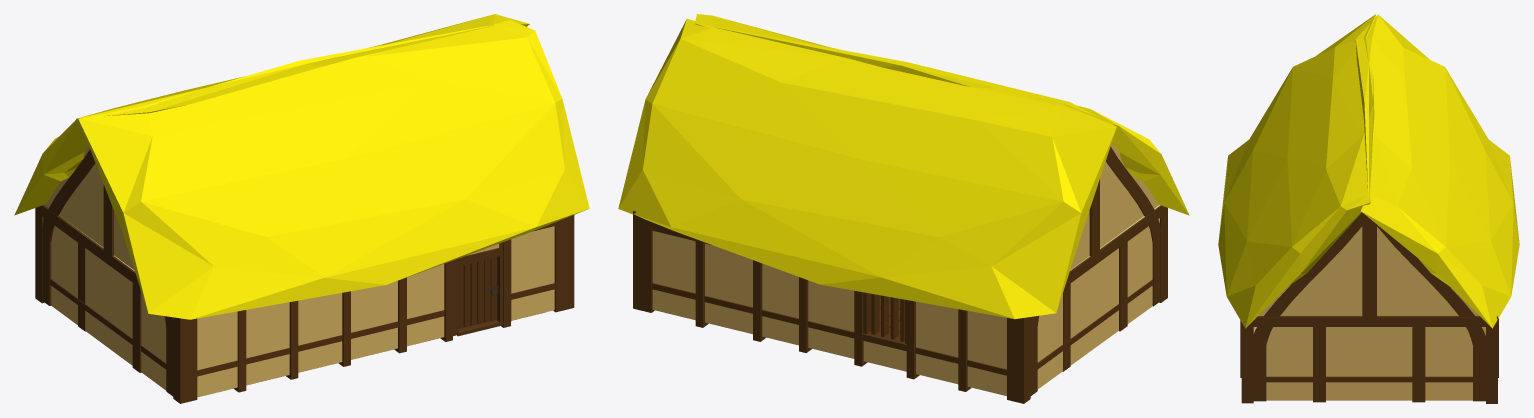
The model's file is casita.fbx.
3 renders of one model, left to right at view 1: azimuth 30°, elevation 25°; view 2: azimuth 150°, elevation 25°; view 3: azimuth 270°, elevation 25°, orthographic. The views are drawn at different scales.
Visible parts, largest first — view 1: Icosphere.001, Cube.026, Cube.020, Icosphere.002, Cube.004, Cube.023, Cube.072, Cube.009, Cube.003, Cube.057, Cube.063, Cube.051 (+8 smaller); view 2: Icosphere.002, Cube.019, Cube.020, Icosphere.001, Cube.004, Cube.009, Cube.045, Cube.003, Cube.049, Cube.050, Cube.047, Cube.044 (+5 smaller); view 3: Icosphere.002, Icosphere.001, Cube.024, Cube.003, Cube.061, Cube.059, Cube.062.
Part boxes in pixels (left/top/right/bottom): Icosphere.001: left=78, top=20, right=589, bottom=319; Cube.026: left=197, top=264, right=444, bottom=397; Cube.020: left=44, top=146, right=166, bottom=390; Icosphere.002: left=14, top=14, right=529, bottom=215; Cube.004: left=35, top=185, right=197, bottom=403; Cube.023: left=511, top=226, right=554, bottom=320; Cube.072: left=459, top=257, right=497, bottom=328; Cube.009: left=42, top=149, right=173, bottom=396; Cube.003: left=553, top=215, right=574, bottom=312; Cube.057: left=197, top=310, right=444, bottom=376; Cube.063: left=132, top=283, right=141, bottom=372; Cube.051: left=234, top=310, right=246, bottom=392; Icosphere.002: left=618, top=19, right=1116, bottom=319; Cube.019: left=652, top=231, right=1006, bottom=395; Cube.020: left=1037, top=143, right=1160, bottom=389; Icosphere.001: left=695, top=14, right=1189, bottom=215; Cube.004: left=1007, top=179, right=1167, bottom=403; Cube.009: left=1030, top=146, right=1160, bottom=395; Cube.045: left=652, top=283, right=1006, bottom=375; Cube.003: left=633, top=211, right=654, bottom=312; Cube.049: left=695, top=239, right=708, bottom=327; Cube.050: left=958, top=309, right=971, bottom=391; Cube.047: left=753, top=260, right=765, bottom=341; Cube.044: left=906, top=300, right=919, bottom=379; Icosphere.002: left=1355, top=14, right=1519, bottom=328; Icosphere.001: left=1218, top=14, right=1375, bottom=328; Cube.024: left=1259, top=226, right=1485, bottom=400; Cube.003: left=1241, top=212, right=1497, bottom=403; Cube.061: left=1266, top=376, right=1472, bottom=382; Cube.059: left=1412, top=327, right=1425, bottom=402; Cube.062: left=1313, top=327, right=1325, bottom=402.
Bounding box in the file's own units: 1181 × 620 × 785.
Materials: 132 (1 with a texture image).
